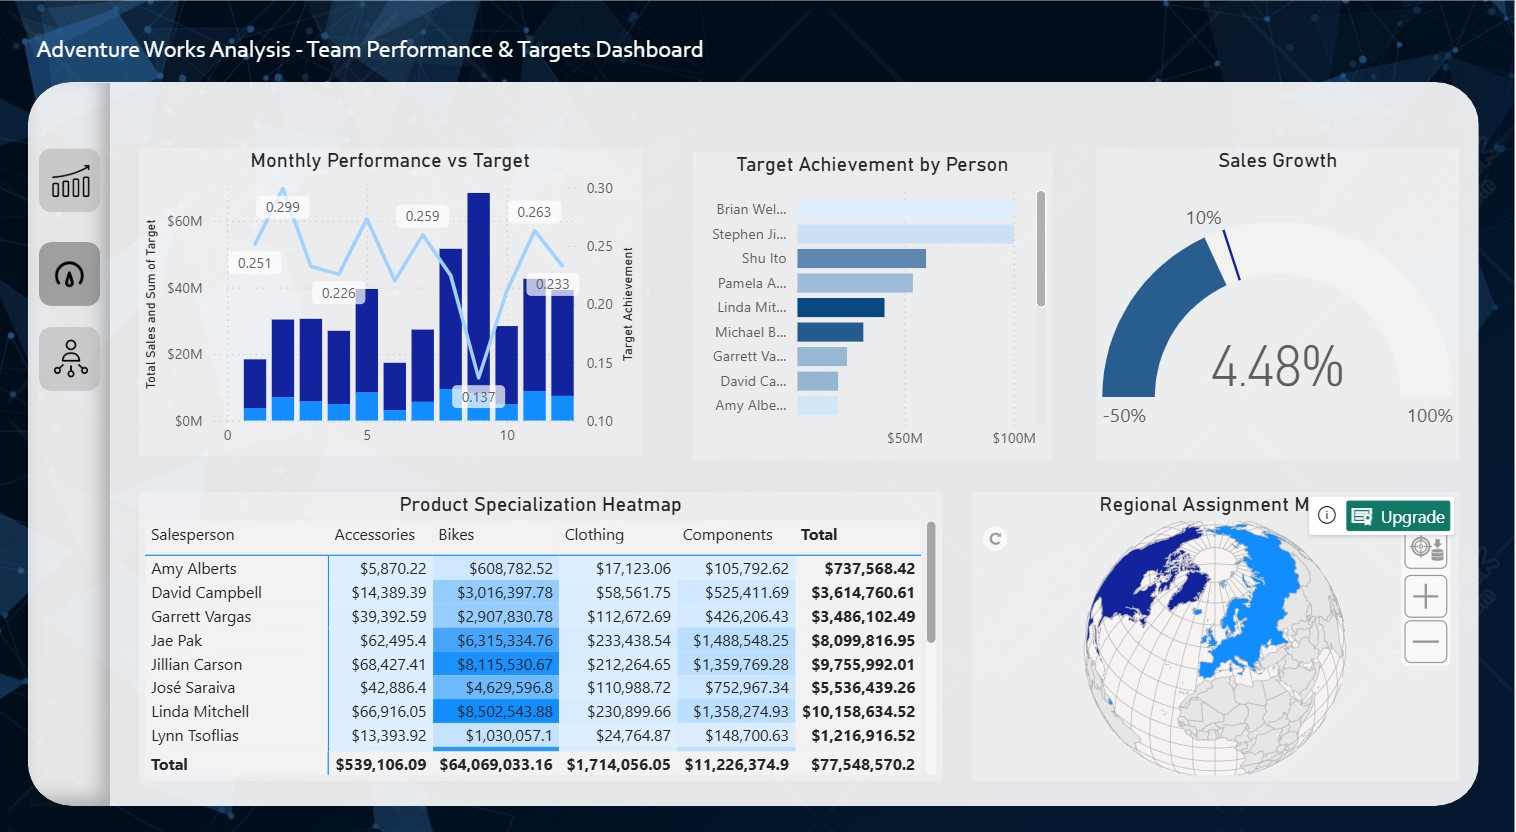

The page's visual inventory and layout, read from the dashboard file:
{"tool":"powerbi","page":{"name":"Team Performance & Targets Dashboard","canvas":[1280,720],"ordinal":1},"visuals":[{"type":"image","box":[0,0,1280,720],"z":0},{"type":"shape","box":[28.6,80,1217.1,607.1],"z":1000},{"type":"shape","box":[29.3,80.5,68.3,607.3],"z":2000},{"type":"barChart","title":"Target Achievement by Person","fields":{"Category":["Salesperson.Salesperson"],"Y":["Sum(Targets.Target)"]},"box":[585.7,138.6,301.4,258.6],"z":3000},{"type":"maps","title":"Regional Assignment Map","fields":{"country":["Region.Group"],"legend":["Salesperson.Salesperson"]},"box":[820,423.8,408.8,242.5],"z":4000},{"type":"pivotTable","title":"Product Specialization Heatmap","fields":{"Values":["_Measures.Total Sales"],"Rows":["Salesperson.Salesperson"],"Columns":["Product.Category"]},"box":[121.2,423.8,673.8,242.5],"z":5000},{"type":"lineStackedColumnComboChart","title":"Monthly Performance vs Target","fields":{"Y":["_Measures.Total Sales","Sum(Targets.Target)"],"Category":["Sales.OrderMonth"],"Y2":["_Measures.Target Achievement"]},"box":[121.4,135.7,421.4,258.6],"z":6000},{"type":"textbox","title":"Adventure Works Analysis - Team Performance & Targets Dashboard","box":[30,40,582.9,30],"z":8000},{"type":"shape","box":[37.5,135,51.2,53.8],"z":9000},{"type":"shape","box":[37.5,213.8,51.2,53.8],"z":10000},{"type":"shape","box":[37.5,285,51.2,53.8],"z":11000},{"type":"gauge","title":"Sales Growth","fields":{"Y":["_Measures.Sales Growth %"]},"box":[924.3,135.7,304.3,261.4],"z":12000},{"type":"image","box":[42.5,140,41.7,42.5],"z":13000},{"type":"image","box":[43.8,220,38.8,42.5],"z":14000},{"type":"image","box":[41.7,285.8,43.3,53.3],"z":15000}]}

Visuals, with their boxes on the page's 1280x720 design canvas (x1, y1, x2, y2). These are canvas units, not pixel positions in the 1516x832 screenshot, which may show the page scaled, cropped or inside an application window:
image: x1=0 y1=0 x2=1280 y2=720
shape: x1=29 y1=80 x2=1246 y2=687
shape: x1=29 y1=80 x2=98 y2=688
"Target Achievement by Person" barChart: x1=586 y1=139 x2=887 y2=397
"Regional Assignment Map" maps: x1=820 y1=424 x2=1229 y2=666
"Product Specialization Heatmap" pivotTable: x1=121 y1=424 x2=795 y2=666
"Monthly Performance vs Target" lineStackedColumnComboChart: x1=121 y1=136 x2=543 y2=394
"Adventure Works Analysis - Team Performance & Targets Dashboard" textbox: x1=30 y1=40 x2=613 y2=70
shape: x1=38 y1=135 x2=89 y2=189
shape: x1=38 y1=214 x2=89 y2=268
shape: x1=38 y1=285 x2=89 y2=339
"Sales Growth" gauge: x1=924 y1=136 x2=1229 y2=397
image: x1=42 y1=140 x2=84 y2=182
image: x1=44 y1=220 x2=83 y2=262
image: x1=42 y1=286 x2=85 y2=339
